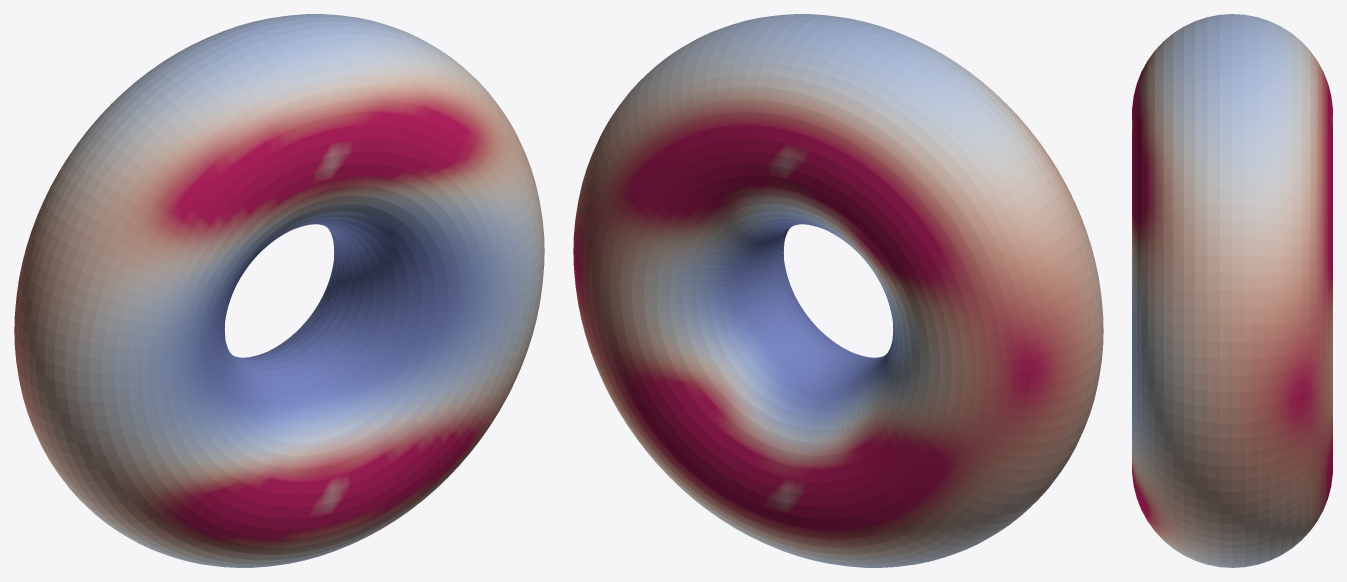
The picture shows the model from 3 angles, left to right: view 1: azimuth 30°, elevation 25°; view 2: azimuth 150°, elevation 25°; view 3: azimuth 270°, elevation 25°; orthographic projection. The views are drawn at different scales.
Visible parts, largest first — view 1: world; view 2: world; view 3: world.
Part boxes in pixels (box(x1,y1,x2,y2)): world: box(14, 14, 544, 567); world: box(573, 14, 1103, 567); world: box(1132, 14, 1332, 567).
Bounding box in the file's own units: 20.93 × 20.93 × 7.59.
